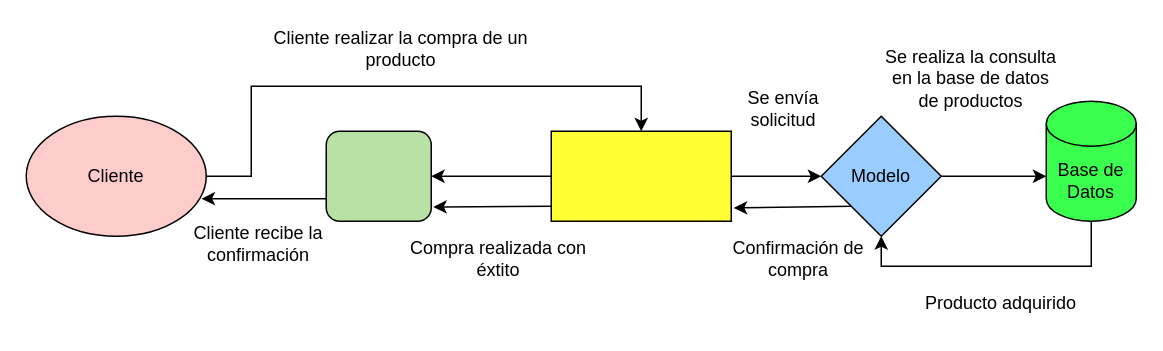
This 1163x351 diagram has some shape labels left out. Here are the shapes that lost their labels. From the top down, the centre of each, then its label:
At [378,175]: "Vista".
At [640,175]: "Controlador".
